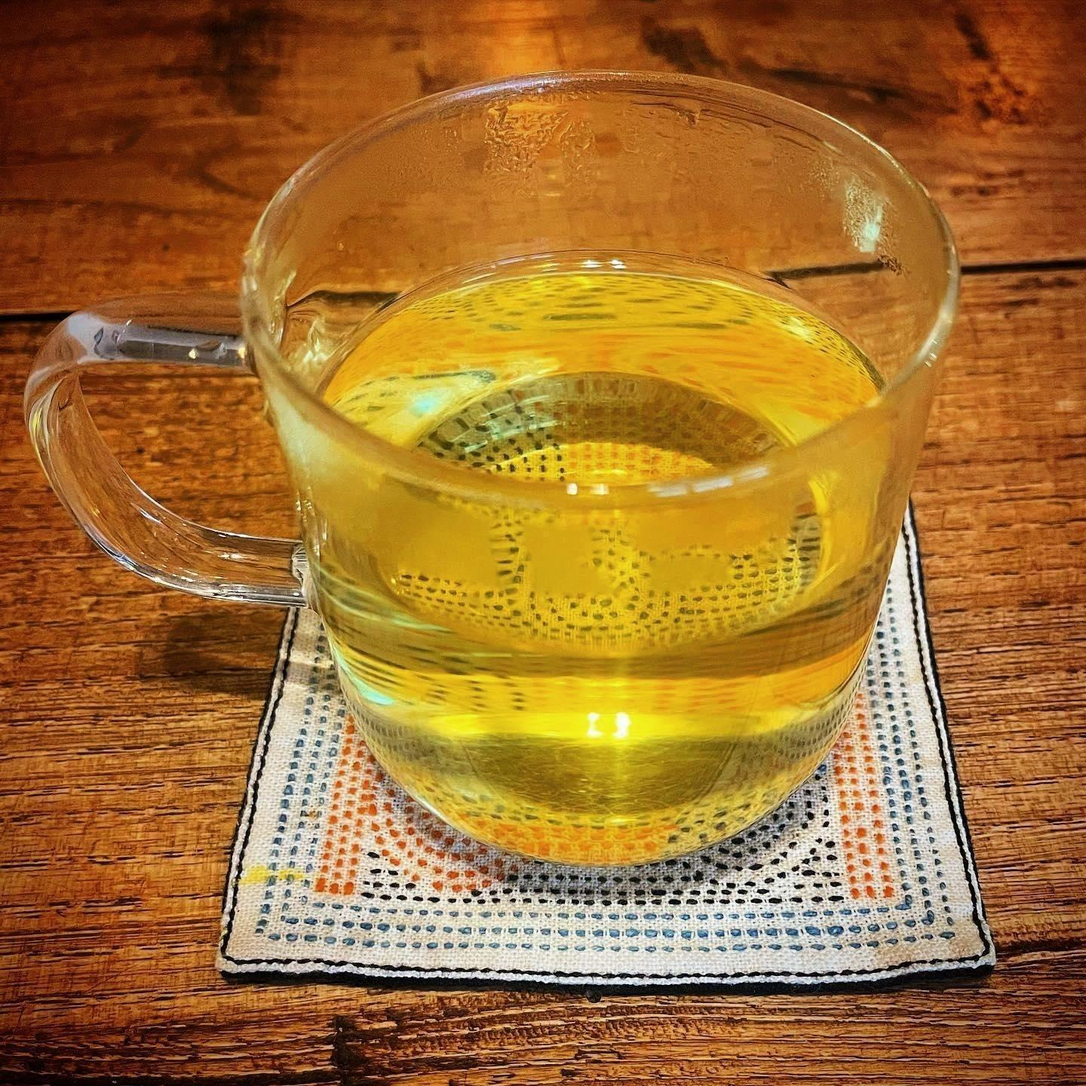glass-mug: (29, 64, 982, 900)
